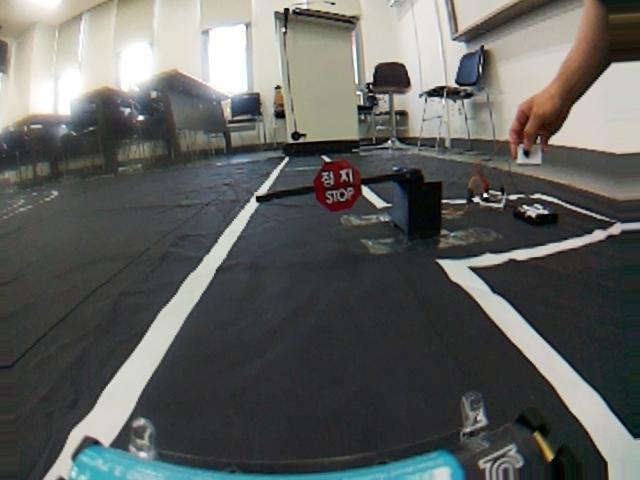sign_stop: (311, 155, 367, 213)
straight: (49, 269, 640, 475)
